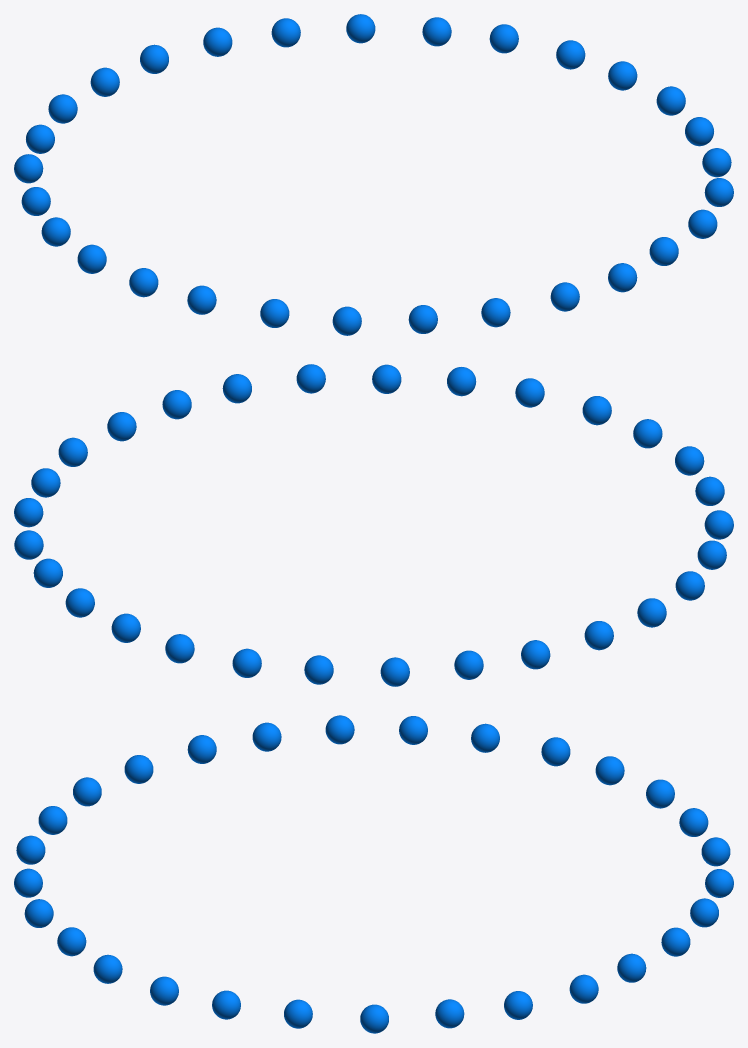
The picture shows the model from 3 angles, top to bottom: view 1: azimuth 30°, elevation 25°; view 2: azimuth 150°, elevation 25°; view 3: azimuth 270°, elevation 25°; orthographic projection.
Visible parts, largest first — view 1: Sphere052; view 2: Sphere052; view 3: Sphere052.
Boxes of the visible parts, left/top/right/bottom form: Sphere052: left=14, top=14, right=733, bottom=335; Sphere052: left=14, top=364, right=733, bottom=686; Sphere052: left=14, top=715, right=733, bottom=1033.
Bounding box in the file's own units: 202 × 8.22 × 204.
